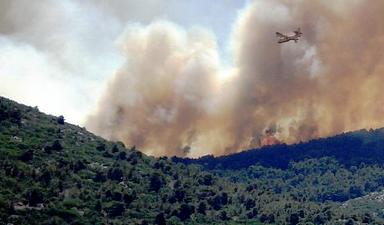fire: (248, 132, 287, 154)
smoke: (118, 13, 383, 157)
